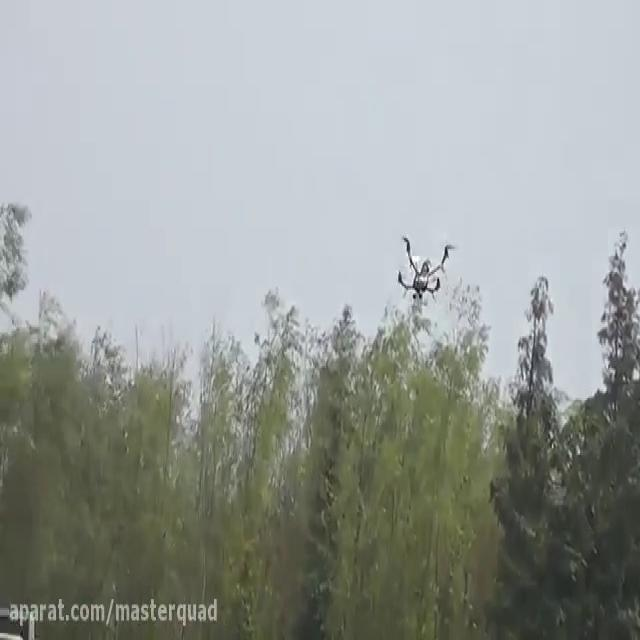drone: (390, 229, 461, 306)
